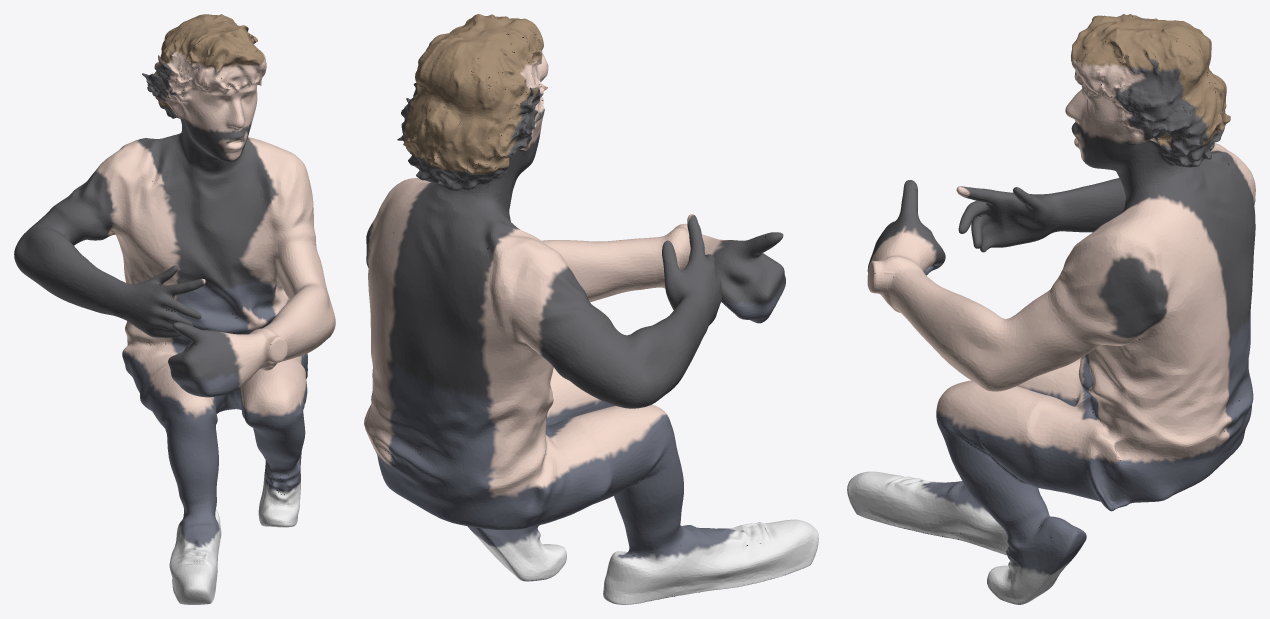
The model's file is Char_Comparison.fbx.
3 views of the same model, side by side, from view 1: azimuth 30°, elevation 25°; view 2: azimuth 150°, elevation 25°; view 3: azimuth 270°, elevation 25° (orthographic). The views are drawn at different scales.
Parts seen in each view (by area): view 1: Char_Comparison; view 2: Char_Comparison; view 3: Char_Comparison.
Boxes of the visible parts, x1=… form: Char_Comparison: x1=14, y1=14, x2=335, y2=604; Char_Comparison: x1=364, y1=14, x2=818, y2=604; Char_Comparison: x1=847, y1=14, x2=1255, y2=604.
Size of the model in its own units: 103 by 180 by 118.
1 material, 1 textured.
